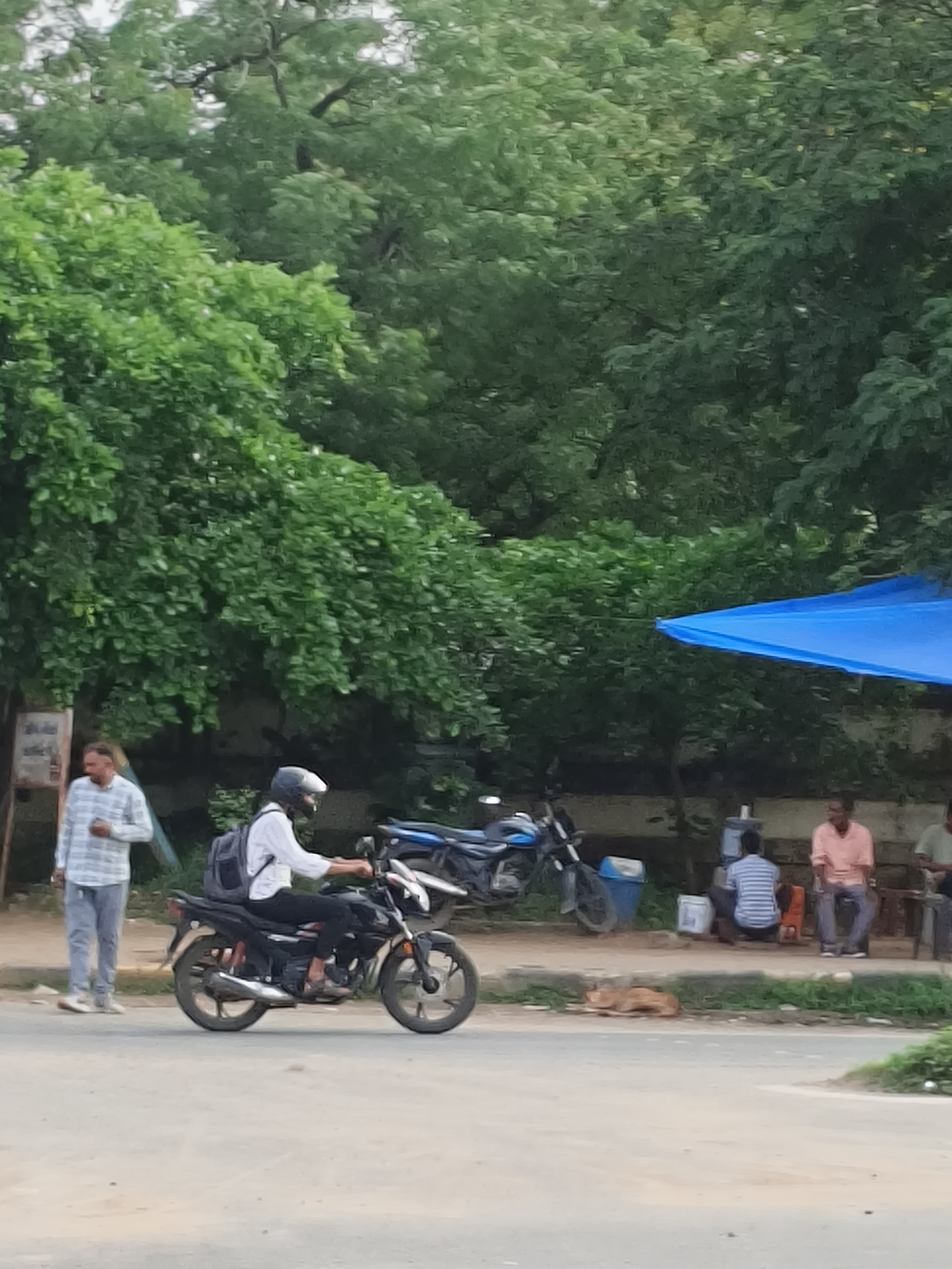BikeWithRider: (164, 764, 484, 1037)
Helmet: (259, 766, 324, 826)
